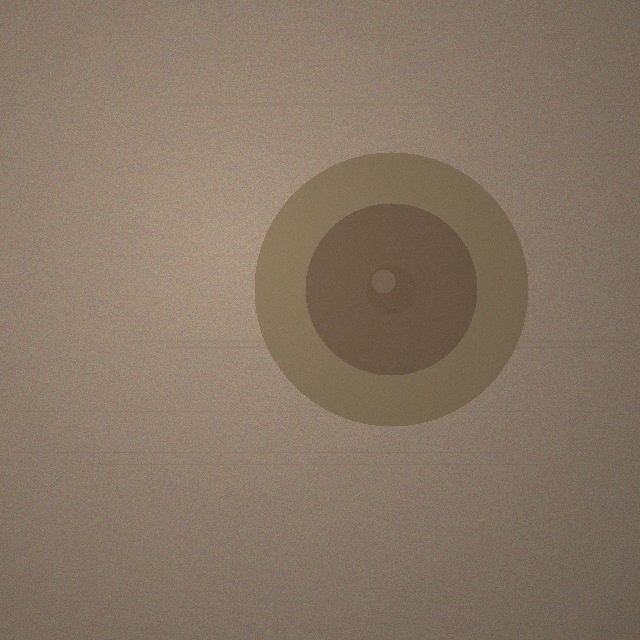good: (254, 152, 528, 426)
